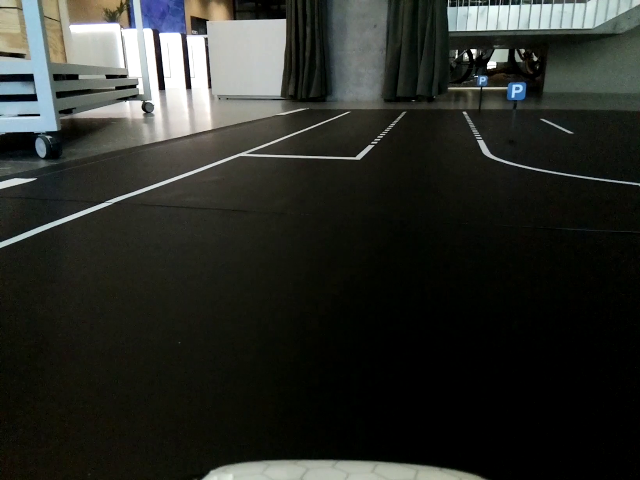park: (507, 82, 525, 100), (477, 74, 489, 87)
